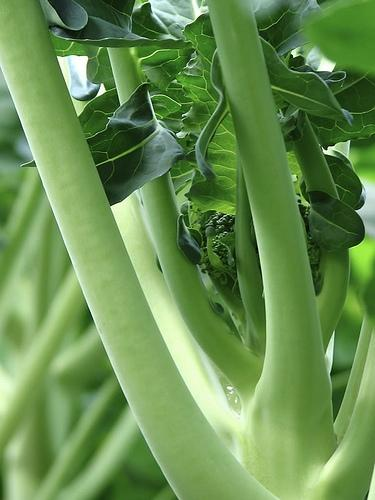broccoli: (0, 0, 375, 500), (204, 211, 235, 268)
